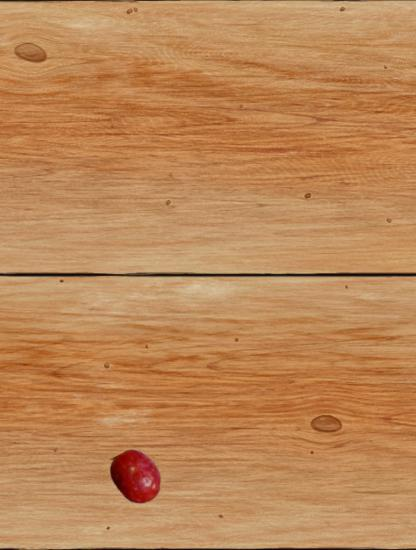Grape: (108, 449, 165, 506)
